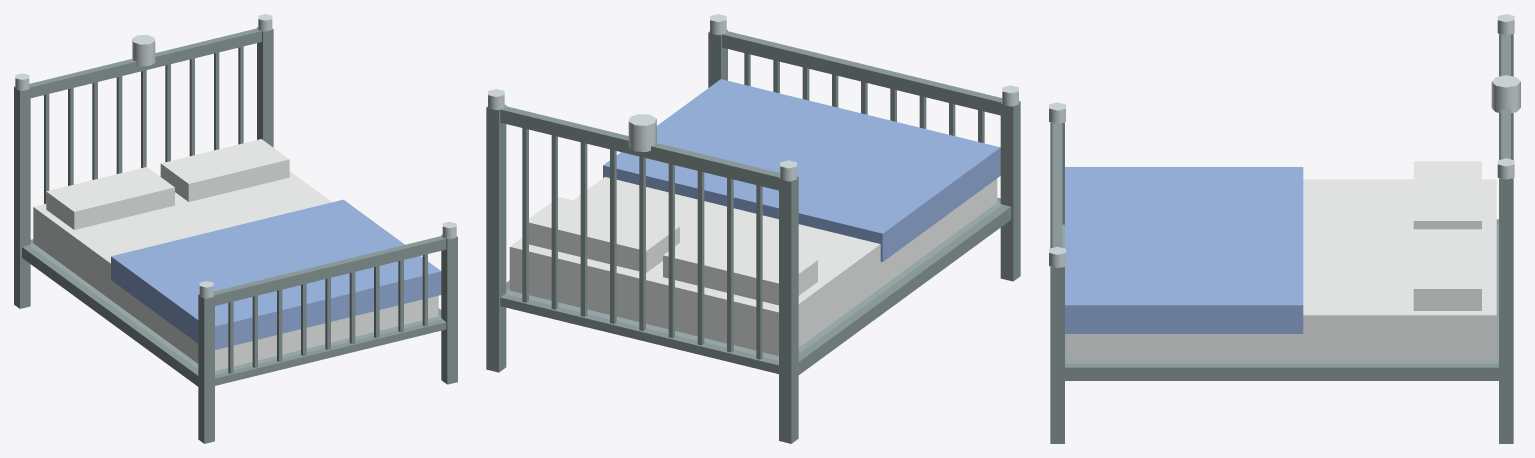
The model's file is bedDoubleIron.glb.
3 renders of one model, left to right at view 1: azimuth 30°, elevation 25°; view 2: azimuth 150°, elevation 25°; view 3: azimuth 270°, elevation 25°, orthographic. The views are drawn at different scales.
Visible parts, largest first — view 1: bedDoubleIron; view 2: bedDoubleIron; view 3: bedDoubleIron.
Boxes of the visible parts, <box> form: bedDoubleIron: <box>14,14,457,443</box>; bedDoubleIron: <box>486,14,1020,443</box>; bedDoubleIron: <box>1049,14,1520,443</box>.
Size of the model in its own units: 0.74 by 0.65 by 0.9673.
